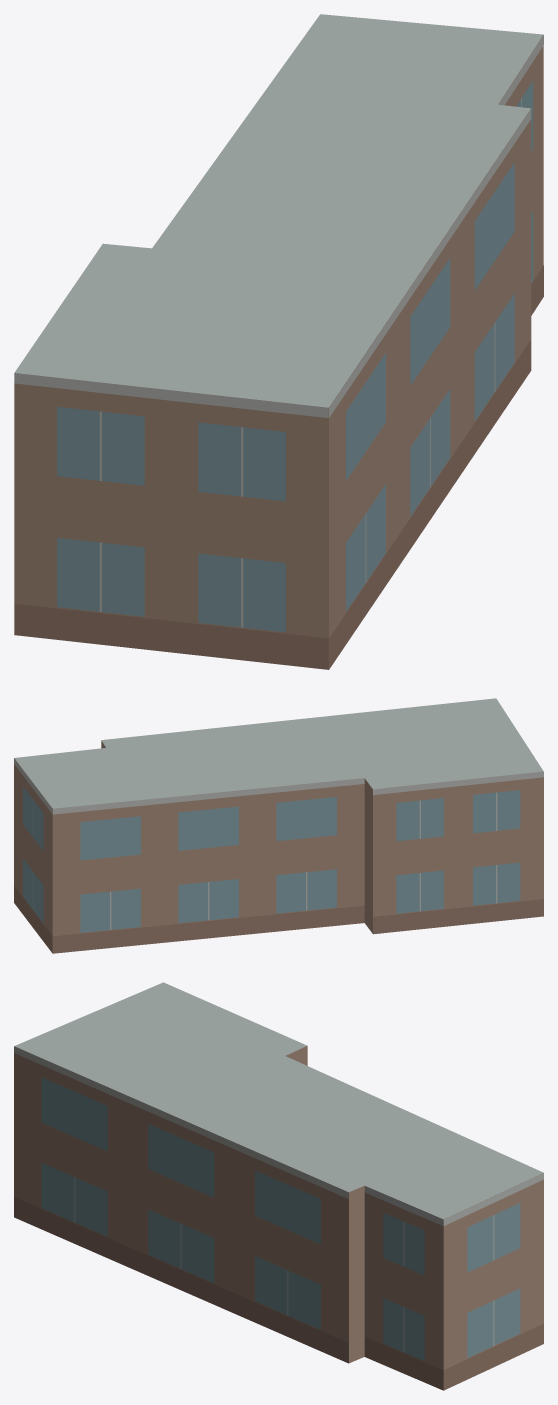
Rendered from survey-upis-32991037.glb.
3 renders of one model, top to bottom at view 1: azimuth 30°, elevation 25°; view 2: azimuth 150°, elevation 25°; view 3: azimuth 270°, elevation 25°, orthographic. The views are drawn at different scales.
Visible parts, largest first — view 1: survey-upis-32991037.tmp; view 2: survey-upis-32991037.tmp; view 3: survey-upis-32991037.tmp.
Part boxes in pixels (x1,y1,x2,y2): survey-upis-32991037.tmp: [14, 14, 543, 669]; survey-upis-32991037.tmp: [14, 698, 543, 953]; survey-upis-32991037.tmp: [14, 982, 543, 1390].
Size of the model in its own units: 18.13 by 6.1 by 17.12.
